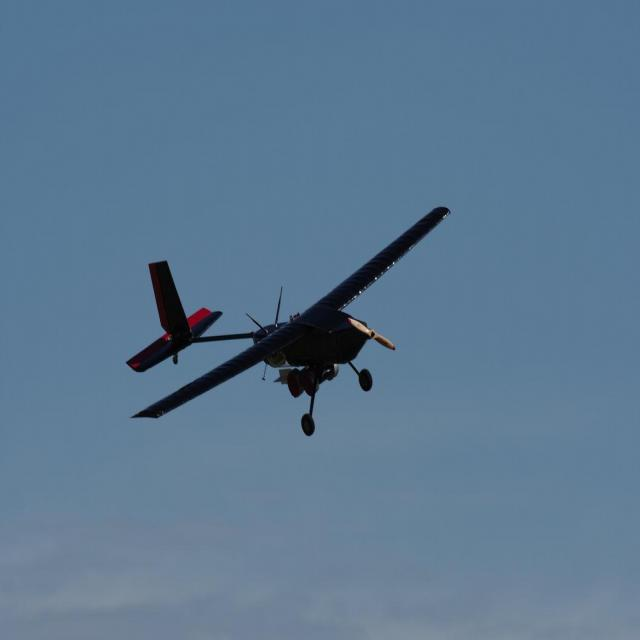iha: (130, 224, 494, 419)
